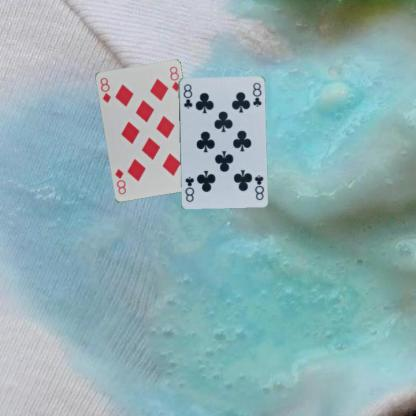8c: (252, 172, 265, 201), (181, 81, 193, 110)
8d: (97, 75, 112, 104)
